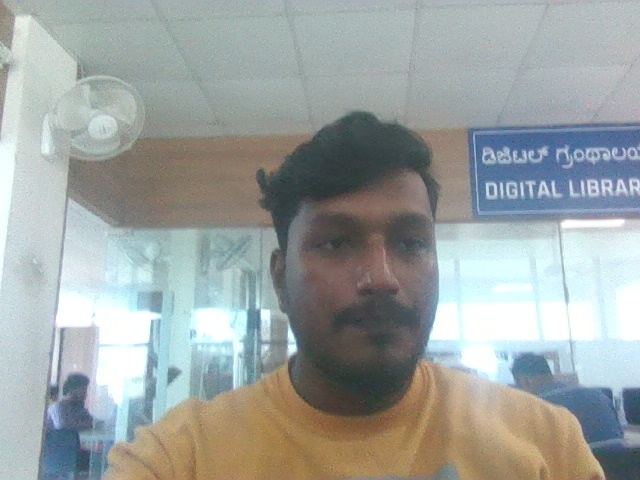real: (258, 97, 465, 391)
